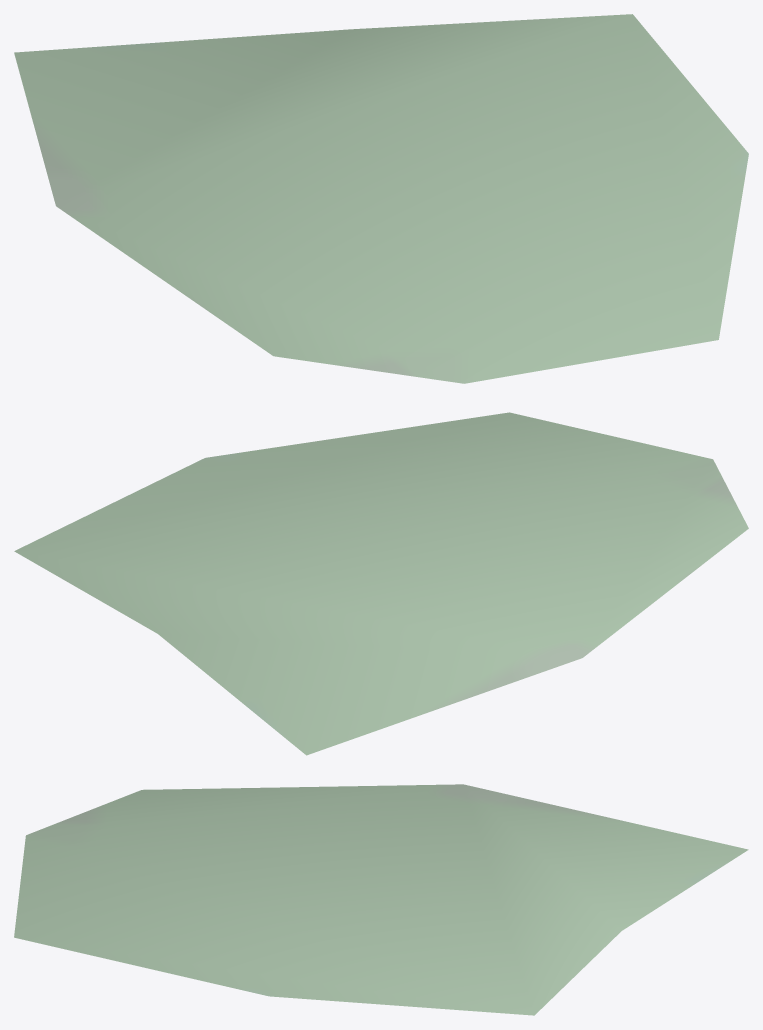
File: TROLLHOLE02_HOLECAP01.fbx
3 renders of one model, top to bottom at view 1: azimuth 30°, elevation 25°; view 2: azimuth 150°, elevation 25°; view 3: azimuth 270°, elevation 25°, orthographic. The views are drawn at different scales.
Visible parts, largest first — view 1: TROLLHOLE02_HOLECAP01; view 2: TROLLHOLE02_HOLECAP01; view 3: TROLLHOLE02_HOLECAP01.
Boxes of the visible parts, <box> form: TROLLHOLE02_HOLECAP01: <box>14,14,748,383</box>; TROLLHOLE02_HOLECAP01: <box>14,412,748,755</box>; TROLLHOLE02_HOLECAP01: <box>14,784,748,1015</box>.
Size of the model in its own units: 20622 by 689 by 27067.
Materials: 1 (1 with a texture image).
